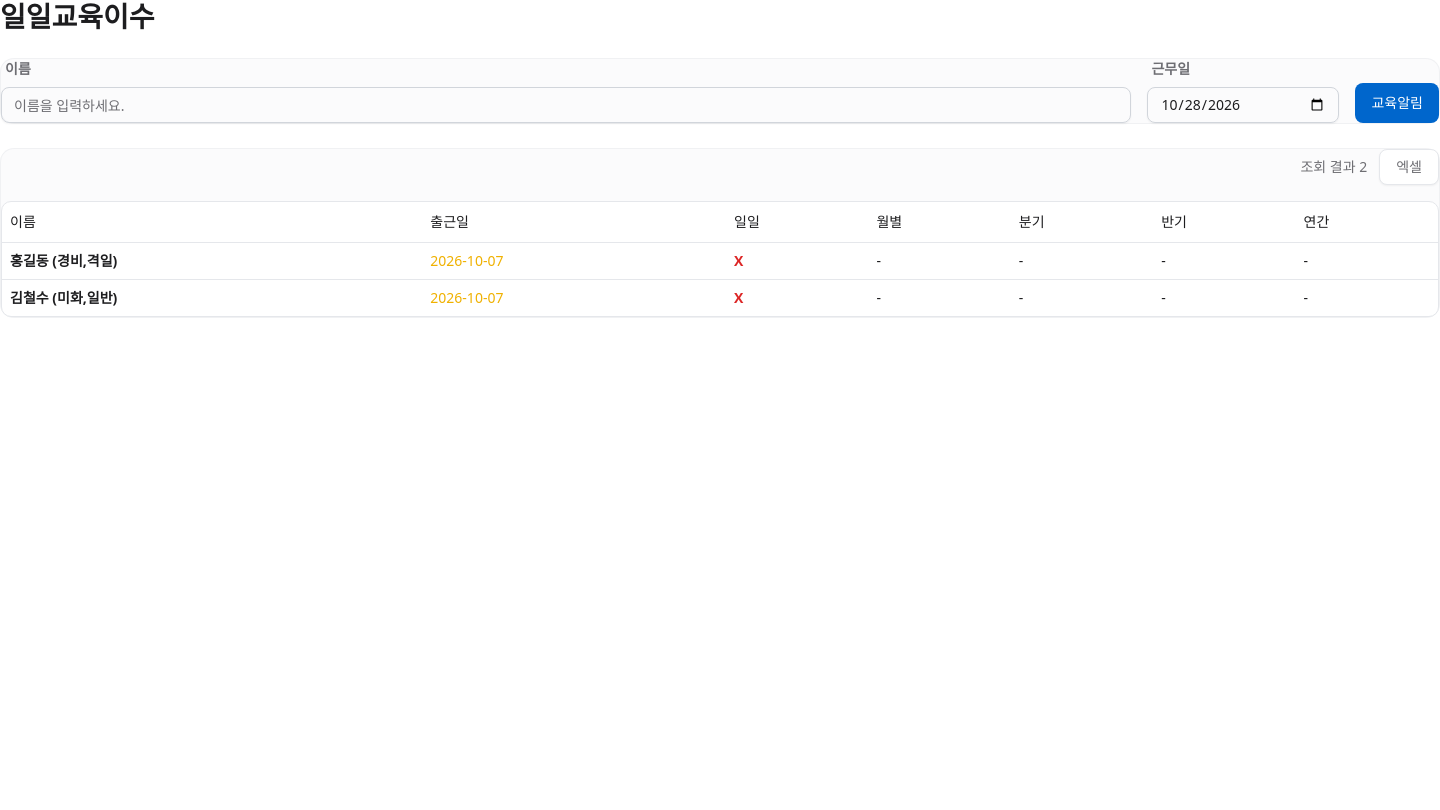
Test: registers the filtered list and shows count and delay from the server
The image size is (1440, 810).
Check: the text "홍길동 (경비,격일)" is shown, box [2,242,422,279]
In the field labelled "이름": x=566, y=105 [1,87,1132,123], type "홍길동"
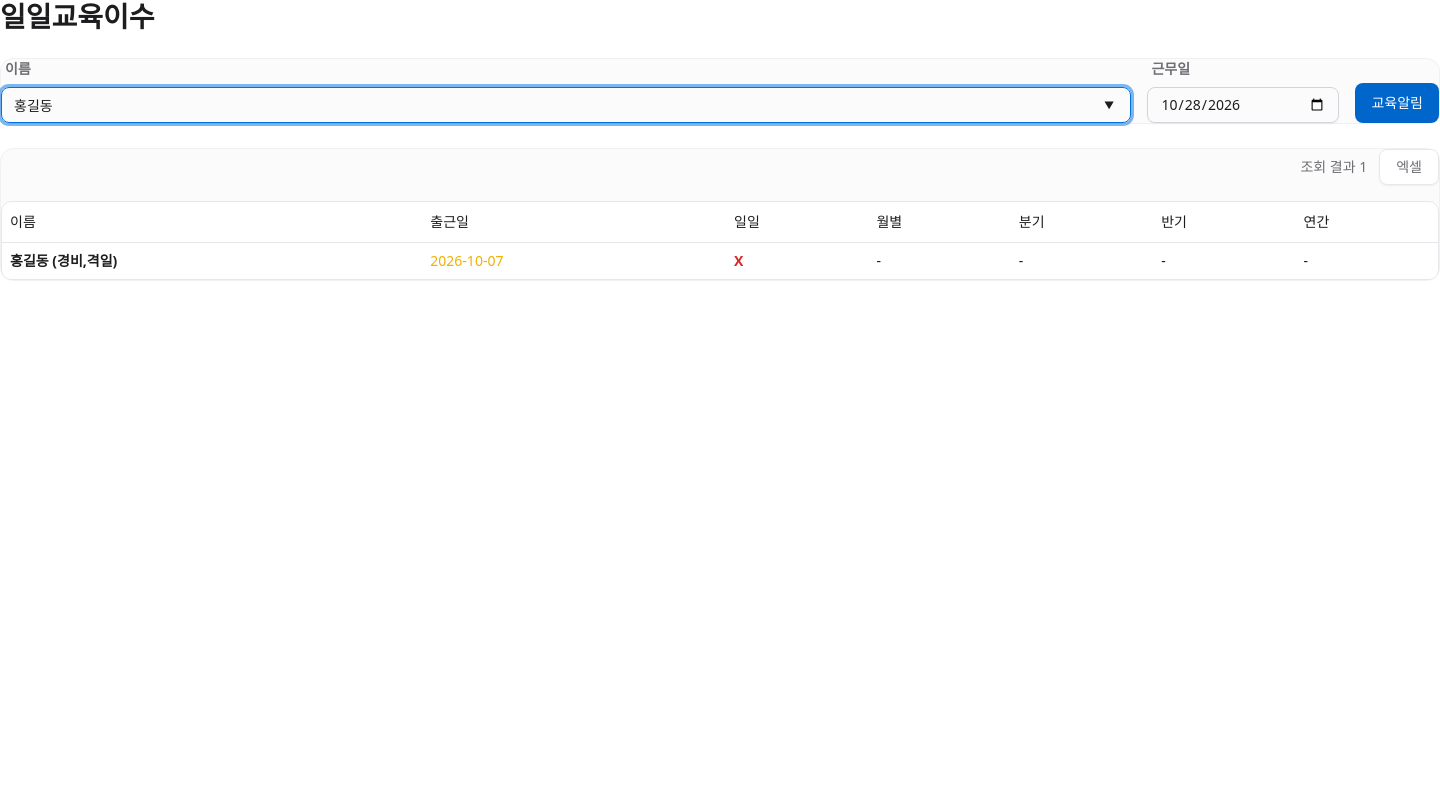
Click the button "교육알림": x=1397, y=103 [1356,83,1439,123]
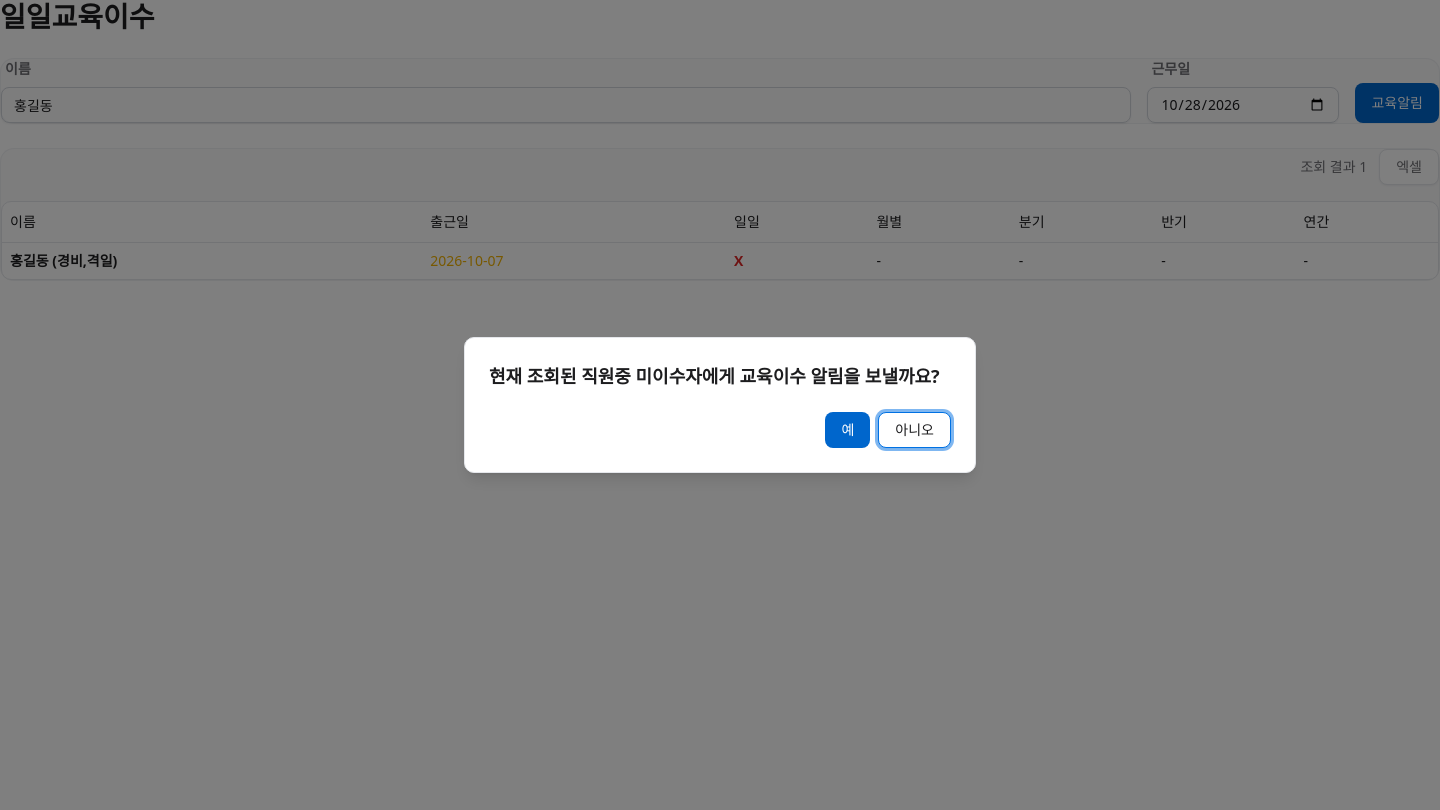
Check: the dialog shows "현재 조회된 직원중 미이수자에게 교육이수 알림을 보낼까요?", box [489,364,940,388]
Click the button "아니오": x=915, y=430 [878,412,951,448]
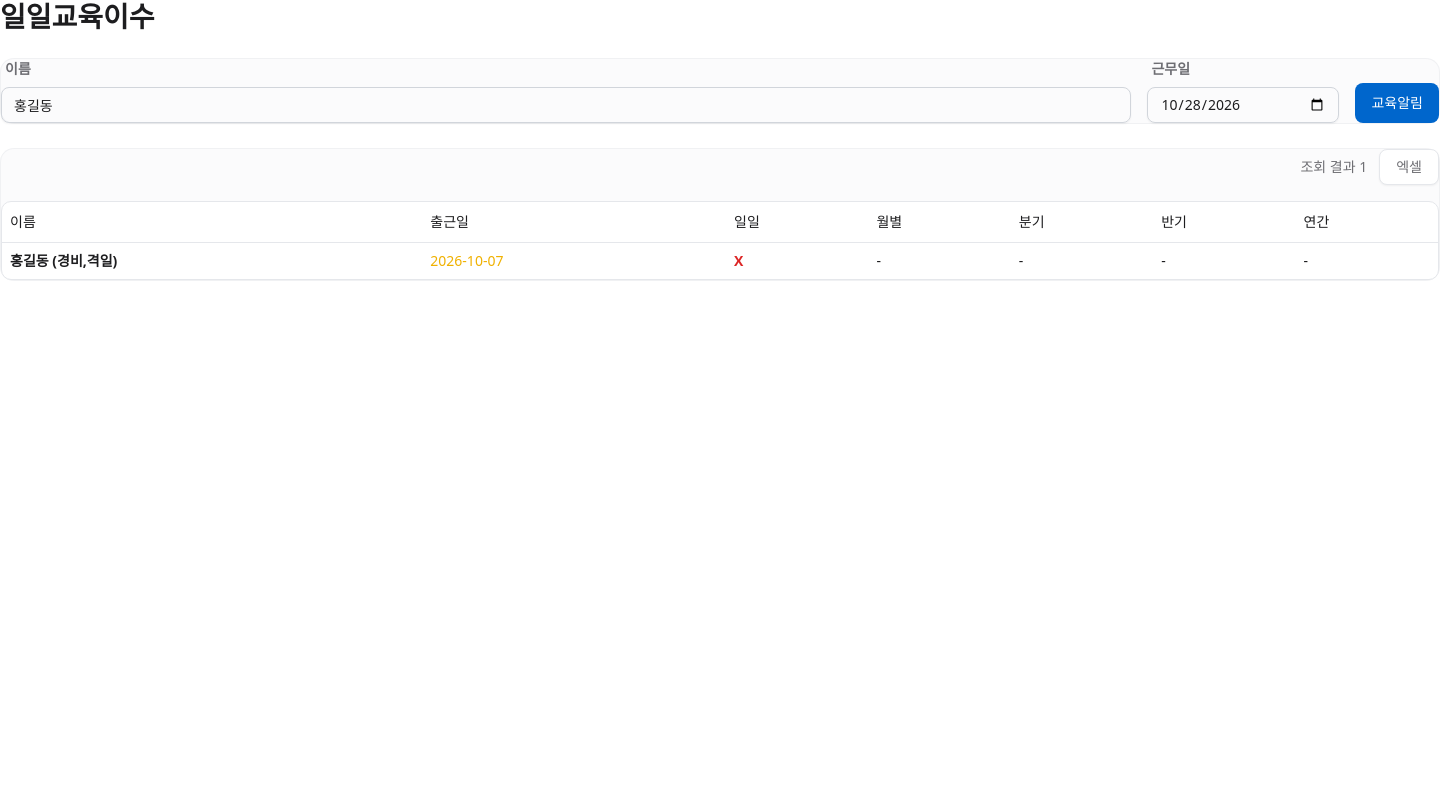
Click the button "교육알림": x=1397, y=103 [1356,83,1439,123]
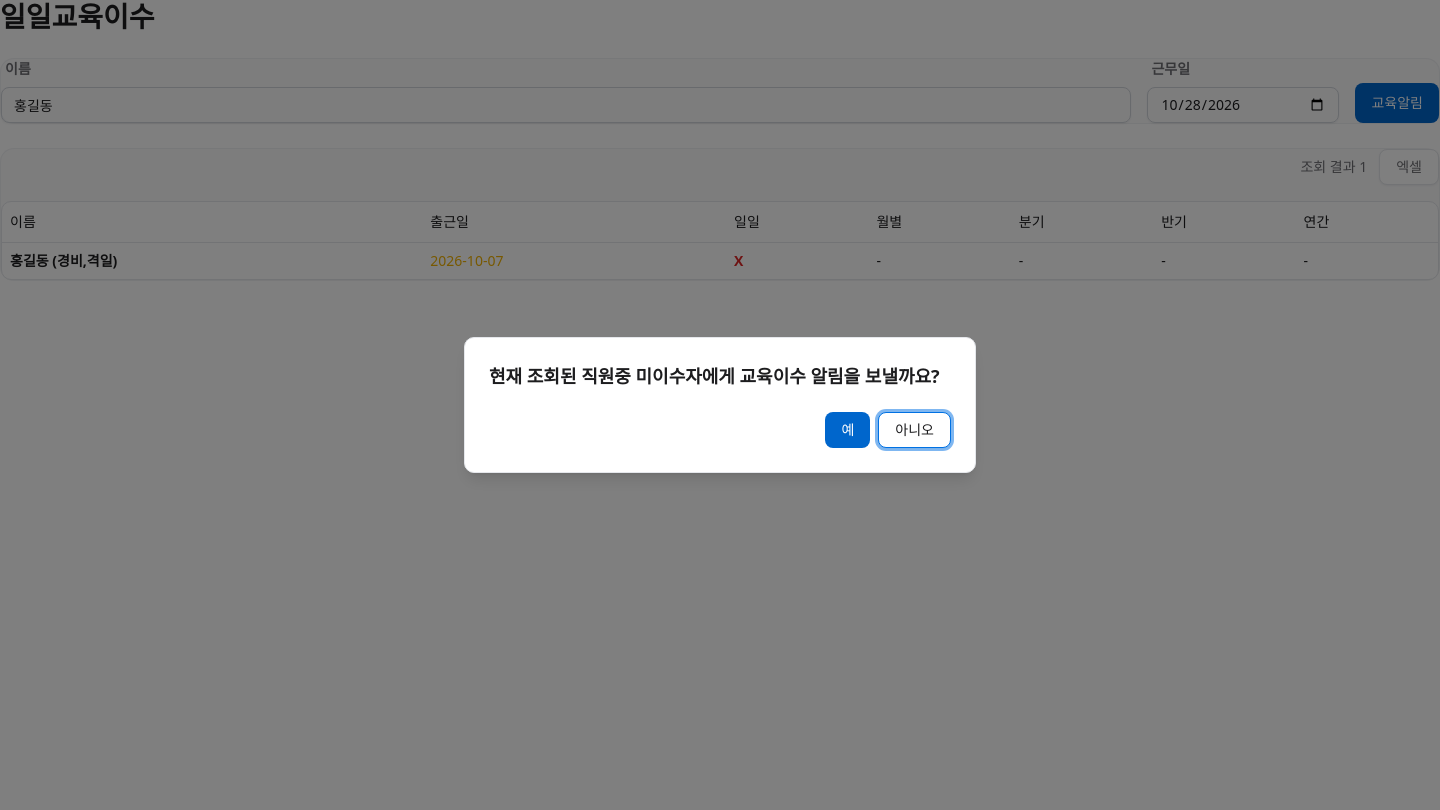
Click the button "예": x=848, y=430 [826,412,870,448]
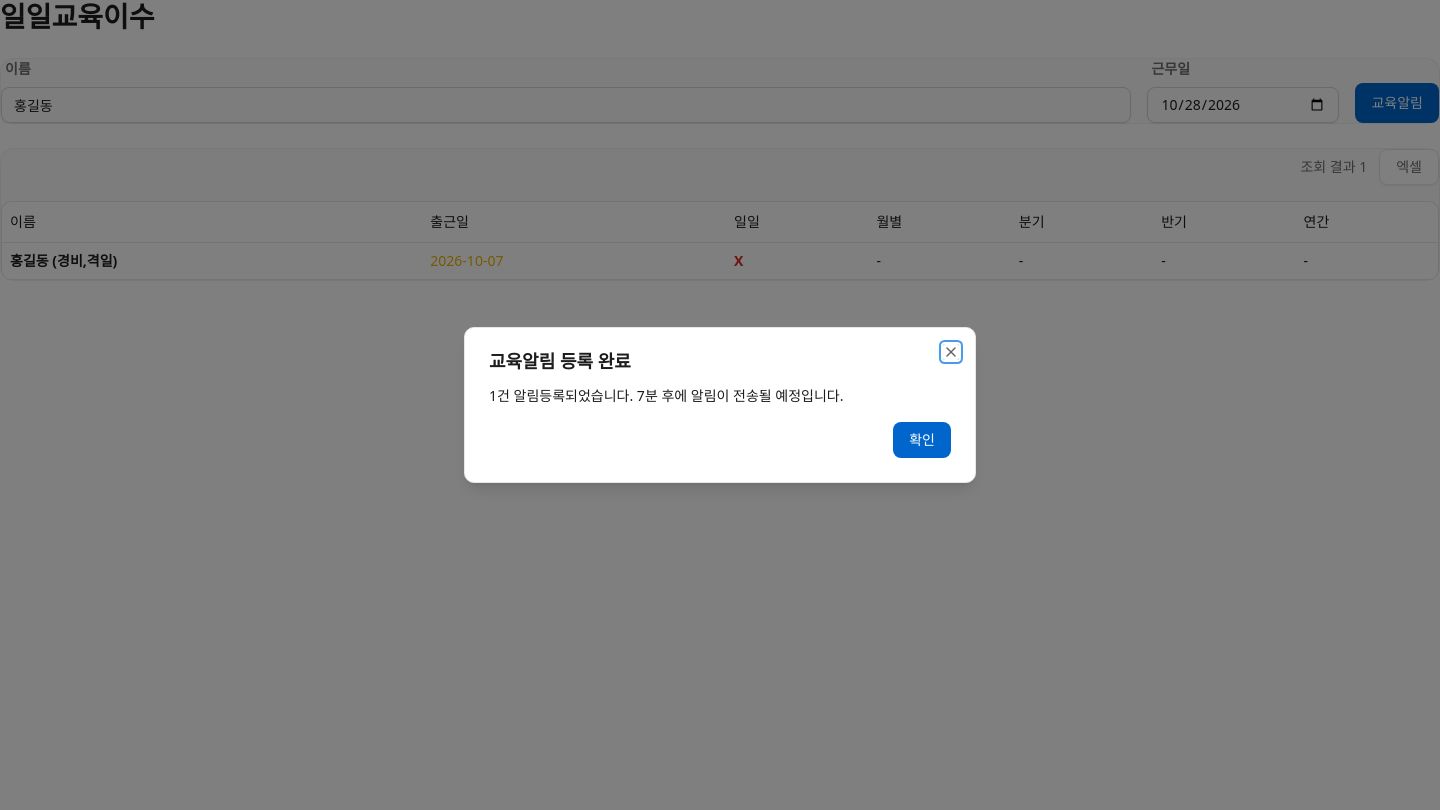
Check: the text "1건 알림등록되었습니다. 7분 후에 알림이 전송될 예정입니다." is shown, box [489,386,844,405]
